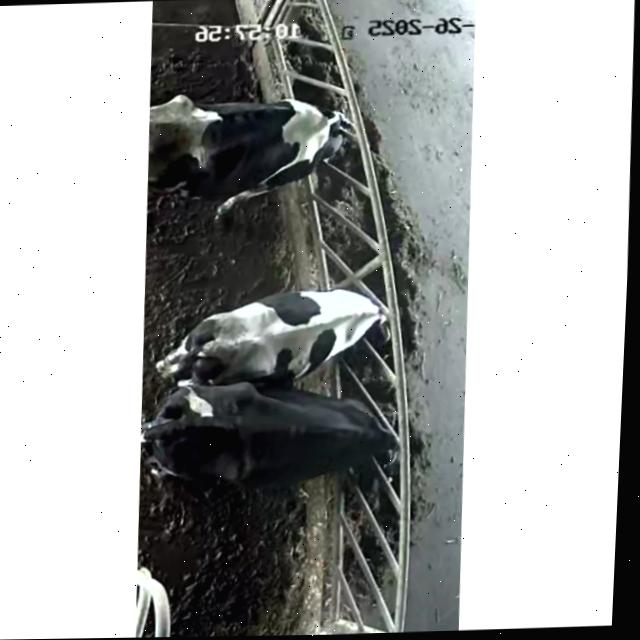eat: (231, 73, 408, 189), (271, 255, 421, 364), (268, 386, 435, 481)
